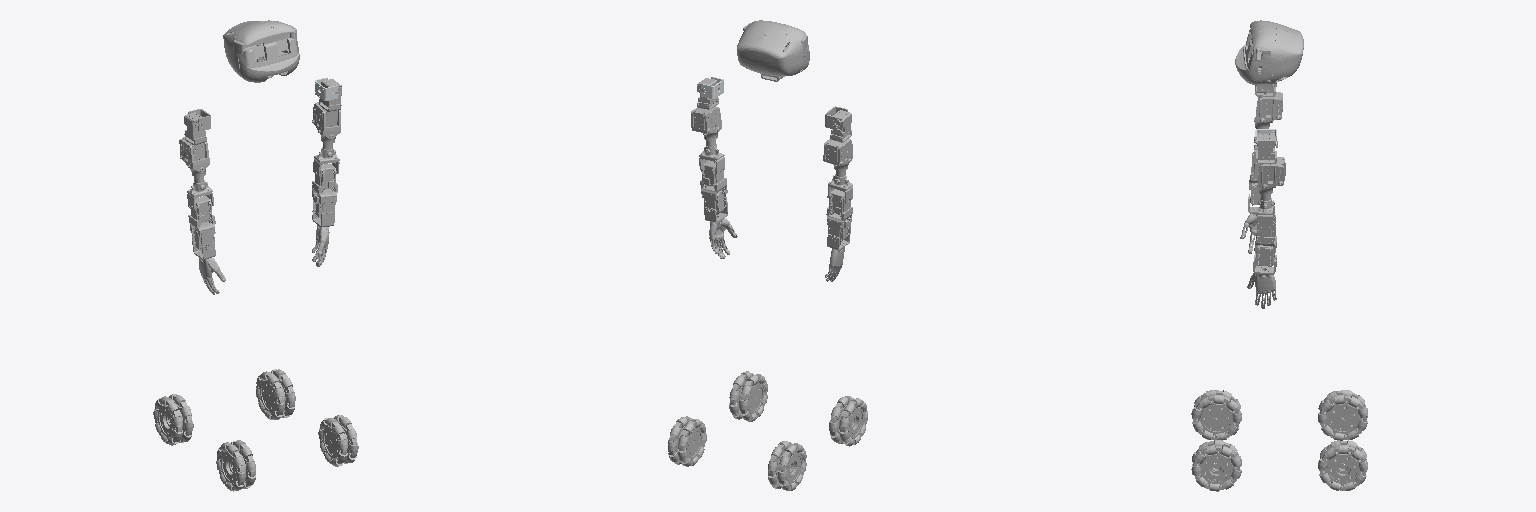
--- Render facts (derived) ---
The picture shows the robot from 3 angles, left to right: view 1: azimuth 30°, elevation 25°; view 2: azimuth 150°, elevation 25°; view 3: azimuth 270°, elevation 25°; orthographic projection.
Model ajit_2 with 17 links and 16 joints (16 continuous), rooted at torso_with_base, posed all joints at 0.
Links seen in each view (by area): view 1: head, front_left_wheel, rear_right_wheel, front_right_wheel, rear_left_wheel, right_upper_arm, left_upper_arm, left_lower_arm, right_lower_arm, right_hand, left_hand; view 2: head, rear_left_wheel, rear_right_wheel, front_right_wheel, front_left_wheel, left_upper_arm, right_upper_arm, left_lower_arm, right_lower_arm, left_hand, right_hand; view 3: head, front_right_wheel, front_left_wheel, rear_right_wheel, rear_left_wheel, left_upper_arm, left_hand, right_upper_arm, left_lower_arm, left_shoulder.
Boxes of the visible links, x1,y1,x2,y2 form: head: [223, 20, 299, 82]; front_left_wheel: [216, 440, 255, 491]; rear_right_wheel: [256, 369, 295, 419]; front_right_wheel: [318, 415, 358, 466]; rear_left_wheel: [153, 394, 193, 445]; right_upper_arm: [179, 137, 213, 210]; left_upper_arm: [312, 102, 340, 176]; left_lower_arm: [312, 163, 337, 218]; right_lower_arm: [188, 196, 215, 251]; right_hand: [193, 243, 225, 294]; left_hand: [312, 212, 334, 266]; head: [737, 20, 809, 76]; rear_left_wheel: [768, 441, 806, 490]; rear_right_wheel: [668, 416, 706, 466]; front_right_wheel: [729, 371, 767, 421]; front_left_wheel: [829, 396, 867, 446]; left_upper_arm: [691, 107, 724, 173]; right_upper_arm: [823, 139, 852, 203]; left_lower_arm: [700, 160, 727, 214]; right_lower_arm: [826, 189, 852, 242]; left_hand: [704, 202, 737, 258]; right_hand: [825, 232, 850, 281]; head: [1235, 20, 1303, 84]; front_right_wheel: [1191, 440, 1241, 491]; front_left_wheel: [1191, 390, 1241, 439]; rear_right_wheel: [1318, 440, 1367, 490]; rear_left_wheel: [1318, 390, 1367, 440]; left_upper_arm: [1257, 157, 1285, 228]; left_hand: [1247, 253, 1276, 308]; right_upper_arm: [1254, 92, 1282, 164]; left_lower_arm: [1254, 214, 1276, 266]; left_shoulder: [1254, 133, 1276, 163].
Size in the robot's own frame: 0.3527 by 0.3499 by 0.9522 metres.
16 mesh visuals loaded from 17 distinct referenced files (16 binary STL); not drawn: 1 (reference not matched to a file when rendering).

The robot description file, URDF, robot "ajit_2":
<?xml version="1.0" encoding="utf-8"?>
<!-- This URDF was automatically created by SolidWorks to URDF Exporter! Originally created by Stephen Brawner ([email redacted])
     Commit Version: 1.5.1-0-g916b5db  Build Version: 1.5.7152.31018
     For more information, please see http://wiki.ros.org/sw_urdf_exporter -->
<robot
  name="ajit_2">
  <link
    name="torso_with_base">
    <inertial>
      <origin
        xyz="0.00108284784166282 0.00354020612854853 0.161961597641992"
        rpy="0 0 0" />
      <mass
        value="6.09034487721949" />
      <inertia
        ixx="0.0311117225047476"
        ixy="1.34114408391613E-06"
        ixz="4.50213706282103E-08"
        iyy="0.0233704735774127"
        iyz="6.12804905599851E-06"
        izz="0.045740183988236" />
    </inertial>
    <visual>
      <origin
        xyz="0 0 0"
        rpy="0 0 0" />
      <geometry>
        <mesh
          filename="package://ajit_2/meshes/torso_with_base.STL" />
      </geometry>
      <material
        name="">
        <color
          rgba="0.752941176470588 0.752941176470588 0.752941176470588 1" />
      </material>
    </visual>
    <collision>
      <origin
        xyz="0 0 0"
        rpy="0 0 0" />
      <geometry>
        <mesh
          filename="package://ajit_2/meshes/torso_with_base.STL" />
      </geometry>
    </collision>
  </link>
  <link
    name="rear_right_wheel">
    <inertial>
      <origin
        xyz="0.001143679825796 -0.000172693112231372 -0.020243699800859"
        rpy="0 0 0" />
      <mass
        value="0.207966248762552" />
      <inertia
        ixx="4.9547221955099E-05"
        ixy="6.15265107138912E-10"
        ixz="-1.53778223115391E-20"
        iyy="4.95574096353451E-05"
        iyz="8.37649774801772E-20"
        izz="9.25765008771463E-05" />
    </inertial>
    <visual>
      <origin
        xyz="0 0 0"
        rpy="0 0 0" />
      <geometry>
        <mesh
          filename="package://ajit_2/meshes/rear_right_wheel.STL" />
      </geometry>
      <material
        name="">
        <color
          rgba="0.752941176470588 0.752941176470588 0.752941176470588 1" />
      </material>
    </visual>
    <collision>
      <origin
        xyz="0 0 0"
        rpy="0 0 0" />
      <geometry>
        <mesh
          filename="package://ajit_2/meshes/rear_right_wheel.STL" />
      </geometry>
    </collision>
  </link>
  <joint
    name="rear_right_wheel"
    type="continuous">
    <origin
      xyz="0.096 0.125 0.053"
      rpy="1.5708 0.86888 -1.5708" />
    <parent
      link="torso_with_base" />
    <child
      link="rear_right_wheel" />
    <axis
      xyz="0 0 1" />
  </joint>
  <link
    name="front_right_wheel">
    <inertial>
      <origin
        xyz="0.0011436798258164 -0.000172693112257108 -0.0202436998007355"
        rpy="0 0 0" />
      <mass
        value="0.207966248762552" />
      <inertia
        ixx="4.95472219550989E-05"
        ixy="6.15265107127054E-10"
        ixz="-1.99369922450585E-20"
        iyy="4.9557409635345E-05"
        iyz="5.26736987563944E-20"
        izz="9.25765008771462E-05" />
    </inertial>
    <visual>
      <origin
        xyz="0 0 0"
        rpy="0 0 0" />
      <geometry>
        <mesh
          filename="package://ajit_2/meshes/front_right_wheel.STL" />
      </geometry>
      <material
        name="">
        <color
          rgba="0.752941176470588 0.752941176470588 0.752941176470588 1" />
      </material>
    </visual>
    <collision>
      <origin
        xyz="0 0 0"
        rpy="0 0 0" />
      <geometry>
        <mesh
          filename="package://ajit_2/meshes/front_right_wheel.STL" />
      </geometry>
    </collision>
  </link>
  <joint
    name="front_right_wheel"
    type="continuous">
    <origin
      xyz="0.096 -0.125 0.053"
      rpy="1.5708 -0.94871 -1.5708" />
    <parent
      link="torso_with_base" />
    <child
      link="front_right_wheel" />
    <axis
      xyz="0 0 1" />
  </joint>
  <link
    name="front_left_wheel">
    <inertial>
      <origin
        xyz="0.00114367982587759 -0.000172693112185762 -0.020243699800731"
        rpy="0 0 0" />
      <mass
        value="0.207966248762552" />
      <inertia
        ixx="4.9547221955099E-05"
        ixy="6.15265107143571E-10"
        ixz="-3.85100515835727E-20"
        iyy="4.95574096353451E-05"
        iyz="3.15860975115351E-20"
        izz="9.25765008771463E-05" />
    </inertial>
    <visual>
      <origin
        xyz="0 0 0"
        rpy="0 0 0" />
      <geometry>
        <mesh
          filename="package://ajit_2/meshes/front_left_wheel.STL" />
      </geometry>
      <material
        name="">
        <color
          rgba="0.752941176470588 0.752941176470588 0.752941176470588 1" />
      </material>
    </visual>
    <collision>
      <origin
        xyz="0 0 0"
        rpy="0 0 0" />
      <geometry>
        <mesh
          filename="package://ajit_2/meshes/front_left_wheel.STL" />
      </geometry>
    </collision>
  </link>
  <joint
    name="front_left_wheel"
    type="continuous">
    <origin
      xyz="-0.096 -0.125 0.053"
      rpy="1.5708 -1.4317 1.5708" />
    <parent
      link="torso_with_base" />
    <child
      link="front_left_wheel" />
    <axis
      xyz="0 0 1" />
  </joint>
  <link
    name="rear_left_wheel">
    <inertial>
      <origin
        xyz="0.00114367982587757 -0.000172693112185839 -0.0202436998007312"
        rpy="0 0 0" />
      <mass
        value="0.207966248762552" />
      <inertia
        ixx="4.9547221955099E-05"
        ixy="6.15265107152465E-10"
        ixz="-1.70255915406408E-20"
        iyy="4.95574096353451E-05"
        iyz="8.3639945478462E-20"
        izz="9.25765008771463E-05" />
    </inertial>
    <visual>
      <origin
        xyz="0 0 0"
        rpy="0 0 0" />
      <geometry>
        <mesh
          filename="package://ajit_2/meshes/rear_left_wheel.STL" />
      </geometry>
      <material
        name="">
        <color
          rgba="0.752941176470588 0.752941176470588 0.752941176470588 1" />
      </material>
    </visual>
    <collision>
      <origin
        xyz="0 0 0"
        rpy="0 0 0" />
      <geometry>
        <mesh
          filename="package://ajit_2/meshes/rear_left_wheel.STL" />
      </geometry>
    </collision>
  </link>
  <joint
    name="rear_left_wheel"
    type="continuous">
    <origin
      xyz="-0.096 0.125 0.053"
      rpy="-1.5708 0.65905 -1.5708" />
    <parent
      link="torso_with_base" />
    <child
      link="rear_left_wheel" />
    <axis
      xyz="0 0 1" />
  </joint>
  <link
    name="neck">
    <inertial>
      <origin
        xyz="-0.000474529164049275 0.0253734807135814 -5.83476752827952E-05"
        rpy="0 0 0" />
      <mass
        value="0.0554686870532122" />
      <inertia
        ixx="1.14400758927377E-05"
        ixy="2.03624999523414E-08"
        ixz="-4.98085641671817E-08"
        iyy="1.01925600115723E-05"
        iyz="9.13023300857169E-09"
        izz="1.45873483934887E-05" />
    </inertial>
    <visual>
      <origin
        xyz="0 0 0"
        rpy="0 0 0" />
      <geometry>
        <mesh
          filename="package://ajit_2/meshes/neck.STL" />
      </geometry>
      <material
        name="">
        <color
          rgba="0.752941176470588 0.752941176470588 0.752941176470588 1" />
      </material>
    </visual>
    <collision>
      <origin
        xyz="0 0 0"
        rpy="0 0 0" />
      <geometry>
        <mesh
          filename="package://ajit_2/meshes/neck.STL" />
      </geometry>
    </collision>
  </link>
  <joint
    name="neck"
    type="continuous">
    <origin
      xyz="0.00050777 -0.020966 0.83778"
      rpy="1.5708 0.00019861 0.07342" />
    <parent
      link="torso_with_base" />
    <child
      link="neck" />
    <axis
      xyz="5.223E-05 -1 0.0020047" />
  </joint>
  <link
    name="head">
    <inertial>
      <origin
        xyz="0.000531720839375085 0.0676698231429836 0.0022355182505913"
        rpy="0 0 0" />
      <mass
        value="0.279948972455118" />
      <inertia
        ixx="0.000268465899949766"
        ixy="-2.50978769356943E-06"
        ixz="-8.51304073909741E-07"
        iyy="0.000569785608013155"
        iyz="8.09060094401545E-05"
        izz="0.000611480471899482" />
    </inertial>
    <visual>
      <origin
        xyz="0 0 0"
        rpy="0 0 0" />
      <geometry>
        <mesh
          filename="package://ajit_2/meshes/head.STL" />
      </geometry>
      <material
        name="">
        <color
          rgba="0.752941176470588 0.752941176470588 0.752941176470588 1" />
      </material>
    </visual>
    <collision>
      <origin
        xyz="0 0 0"
        rpy="0 0 0" />
      <geometry>
        <mesh
          filename="package://ajit_2/meshes/head.STL" />
      </geometry>
    </collision>
  </link>
  <joint
    name="head"
    type="continuous">
    <origin
      xyz="0 0 0"
      rpy="0.073603 -3.6641E-05 0.0011629" />
    <parent
      link="neck" />
    <child
      link="head" />
    <axis
      xyz="0.99988 8.3755E-05 0.015807" />
  </joint>
  <link
    name="left_shoulder_joint">
    <inertial>
      <origin
        xyz="5.89805981832114E-17 -0.00980756234729827 0"
        rpy="0 0 0" />
      <mass
        value="0.0197456142642722" />
      <inertia
        ixx="3.01374083482572E-06"
        ixy="7.54758364984596E-21"
        ixz="3.67268191973544E-21"
        iyy="7.41578906605364E-06"
        iyz="-2.17718137750505E-21"
        izz="7.68967212426087E-06" />
    </inertial>
    <visual>
      <origin
        xyz="0 0 0"
        rpy="0 0 0" />
      <geometry>
        <mesh
          filename="package://ajit_2/meshes/left_shoulder_joint.STL" />
      </geometry>
      <material
        name="">
        <color
          rgba="0.898039215686275 0.917647058823529 0.929411764705882 1" />
      </material>
    </visual>
    <collision>
      <origin
        xyz="0 0 0"
        rpy="0 0 0" />
      <geometry>
        <mesh
          filename="package://ajit_2/meshes/left_shoulder_joint.STL" />
      </geometry>
    </collision>
  </link>
  <joint
    name="left_shoulder_joint"
    type="continuous">
    <origin
      xyz="0.13001 -0.027088 0.77878"
      rpy="0 -0.020253 1.5709" />
    <parent
      link="torso_with_base" />
    <child
      link="left_shoulder_joint" />
    <axis
      xyz="0 1 0" />
  </joint>
  <link
    name="left_shoulder">
    <inertial>
      <origin
        xyz="-0.0290397888125244 -0.0139965238802988 0.000273200540650258"
        rpy="0 0 0" />
      <mass
        value="0.0545537265363548" />
      <inertia
        ixx="1.4435292987549E-05"
        ixy="-3.06680072978822E-07"
        ixz="-8.13515537359147E-08"
        iyy="1.0267269626089E-05"
        iyz="3.41404620185189E-08"
        izz="1.12411417057138E-05" />
    </inertial>
    <visual>
      <origin
        xyz="0 0 0"
        rpy="0 0 0" />
      <geometry>
        <mesh
          filename="package://ajit_2/meshes/left_shoulder.STL" />
      </geometry>
      <material
        name="">
        <color
          rgba="0.752941176470588 0.752941176470588 0.752941176470588 1" />
      </material>
    </visual>
    <collision>
      <origin
        xyz="0 0 0"
        rpy="0 0 0" />
      <geometry>
        <mesh
          filename="package://ajit_2/meshes/left_shoulder.STL" />
      </geometry>
    </collision>
  </link>
  <joint
    name="left_shoulder"
    type="continuous">
    <origin
      xyz="0 0 0"
      rpy="1.5745 -0.14099 1.5445" />
    <parent
      link="left_shoulder_joint" />
    <child
      link="left_shoulder" />
    <axis
      xyz="0.026043 0 0.99966" />
  </joint>
  <link
    name="left_upper_arm">
    <inertial>
      <origin
        xyz="0.030145339604696 -0.0911283429827465 -0.0128896304663745"
        rpy="0 0 0" />
      <mass
        value="0.122044806180425" />
      <inertia
        ixx="3.91919011398007E-05"
        ixy="4.55626129193026E-07"
        ixz="-3.10811320045194E-07"
        iyy="3.89143477397343E-05"
        iyz="2.81736715157909E-06"
        izz="3.80521417753794E-05" />
    </inertial>
    <visual>
      <origin
        xyz="0 0 0"
        rpy="0 0 0" />
      <geometry>
        <mesh
          filename="package://ajit_2/meshes/left_upper_arm.STL" />
      </geometry>
      <material
        name="">
        <color
          rgba="0.752941176470588 0.752941176470588 0.752941176470588 1" />
      </material>
    </visual>
    <collision>
      <origin
        xyz="0 0 0"
        rpy="0 0 0" />
      <geometry>
        <mesh
          filename="package://ajit_2/meshes/left_upper_arm.STL" />
      </geometry>
    </collision>
  </link>
  <joint
    name="left_upper_arm"
    type="continuous">
    <origin
      xyz="0 0 0"
      rpy="-3.131 0.22013 3.1134" />
    <parent
      link="left_shoulder" />
    <child
      link="left_upper_arm" />
    <axis
      xyz="0.043429 -0.99906 -0.0011314" />
  </joint>
  <link
    name="left_lower_arm">
    <inertial>
      <origin
        xyz="-0.0258406908657342 -0.04223907403708 -0.00234479998268169"
        rpy="0 0 0" />
      <mass
        value="0.103756189377196" />
      <inertia
        ixx="2.67457783544487E-05"
        ixy="5.60044040637988E-08"
        ixz="9.07354442813112E-09"
        iyy="2.1294635376876E-05"
        iyz="-2.69255599199436E-08"
        izz="2.67276388960925E-05" />
    </inertial>
    <visual>
      <origin
        xyz="0 0 0"
        rpy="0 0 0" />
      <geometry>
        <mesh
          filename="package://ajit_2/meshes/left_lower_arm.STL" />
      </geometry>
      <material
        name="">
        <color
          rgba="0.752941176470588 0.752941176470588 0.752941176470588 1" />
      </material>
    </visual>
    <collision>
      <origin
        xyz="0 0 0"
        rpy="0 0 0" />
      <geometry>
        <mesh
          filename="package://ajit_2/meshes/left_lower_arm.STL" />
      </geometry>
    </collision>
  </link>
  <joint
    name="left_lower_arm"
    type="continuous">
    <origin
      xyz="0.0078671 -0.17993 8.7293E-05"
      rpy="-3.0684 -0.28741 -3.0642" />
    <parent
      link="left_upper_arm" />
    <child
      link="left_lower_arm" />
    <axis
      xyz="0.9907 0.04292 0.12912" />
  </joint>
  <link
    name="left_hand">
    <inertial>
      <origin
        xyz="0.00577388838029674 -0.0430508603552061 0.000749746012168997"
        rpy="0 0 0" />
      <mass
        value="0.0468313871755756" />
      <inertia
        ixx="2.40657096887482E-05"
        ixy="1.59437420920692E-06"
        ixz="2.14678470719642E-06"
        iyy="1.44249123853662E-05"
        iyz="1.14626895456253E-06"
        izz="1.63260616228612E-05" />
    </inertial>
    <visual>
      <origin
        xyz="0 0 0"
        rpy="0 0 0" />
      <geometry>
        <mesh
          filename="package://ajit_2/meshes/left_hand.STL" />
      </geometry>
      <material
        name="">
        <color
          rgba="0.752941176470588 0.752941176470588 0.752941176470588 1" />
      </material>
    </visual>
    <collision>
      <origin
        xyz="0 0 0"
        rpy="0 0 0" />
      <geometry>
        <mesh
          filename="package://ajit_2/meshes/left_hand.STL" />
      </geometry>
    </collision>
  </link>
  <joint
    name="left_hand"
    type="continuous">
    <origin
      xyz="-0.024156 -0.083279 -0.0008768"
      rpy="0.025587 -0.00094256 -0.067983" />
    <parent
      link="left_lower_arm" />
    <child
      link="left_hand" />
    <axis
      xyz="0.13098 -0.043811 -0.99042" />
  </joint>
  <link
    name="right_shoulder_joint">
    <inertial>
      <origin
        xyz="-0.0109553595775277 -1.11022302462516E-16 0.000285404652196813"
        rpy="0 0 0" />
      <mass
        value="0.0197456142642723" />
      <inertia
        ixx="7.41280348428632E-06"
        ixy="-1.42688655665397E-23"
        ixz="-1.14602623179672E-07"
        iyy="7.68967212426088E-06"
        iyz="7.6232965252887E-21"
        izz="3.01672641659308E-06" />
    </inertial>
    <visual>
      <origin
        xyz="0 0 0"
        rpy="0 0 0" />
      <geometry>
        <mesh
          filename="package://ajit_2/meshes/right_shoulder_joint.STL" />
      </geometry>
      <material
        name="">
        <color
          rgba="0.752941176470588 0.752941176470588 0.752941176470588 1" />
      </material>
    </visual>
    <collision>
      <origin
        xyz="0 0 0"
        rpy="0 0 0" />
      <geometry>
        <mesh
          filename="package://ajit_2/meshes/right_shoulder_joint.STL" />
      </geometry>
    </collision>
  </link>
  <joint
    name="right_shoulder_joint"
    type="continuous">
    <origin
      xyz="-0.12785 -0.027088 0.77878"
      rpy="1.5286 -0.0010986 -0.026154" />
    <parent
      link="torso_with_base" />
    <child
      link="right_shoulder_joint" />
    <axis
      xyz="0.99966 0 -0.026043" />
  </joint>
  <link
    name="right_shoulder">
    <inertial>
      <origin
        xyz="-0.0221624918571401 -0.0174265924107773 9.40364114096898E-05"
        rpy="0 0 0" />
      <mass
        value="0.0545537294198839" />
      <inertia
        ixx="1.44352933311808E-05"
        ixy="-3.06680132947808E-07"
        ixz="-8.13515631816331E-08"
        iyy="1.02672697436159E-05"
        iyz="3.41403487540323E-08"
        izz="1.12411420499378E-05" />
    </inertial>
    <visual>
      <origin
        xyz="0 0 0"
        rpy="0 0 0" />
      <geometry>
        <mesh
          filename="package://ajit_2/meshes/right_shoulder.STL" />
      </geometry>
      <material
        name="">
        <color
          rgba="0.752941176470588 0.752941176470588 0.752941176470588 1" />
      </material>
    </visual>
    <collision>
      <origin
        xyz="0 0 0"
        rpy="0 0 0" />
      <geometry>
        <mesh
          filename="package://ajit_2/meshes/right_shoulder.STL" />
      </geometry>
    </collision>
  </link>
  <joint
    name="right_shoulder"
    type="continuous">
    <origin
      xyz="-0.049983 0 0.0013021"
      rpy="-3.141 0 3.1173" />
    <parent
      link="right_shoulder_joint" />
    <child
      link="right_shoulder" />
    <axis
      xyz="0.026043 0 0.99966" />
  </joint>
  <link
    name="right_upper_arm">
    <inertial>
      <origin
        xyz="0.0236377470370784 -0.09433498259828 -0.00999909368294818"
        rpy="0 0 0" />
      <mass
        value="0.122044804954538" />
      <inertia
        ixx="3.91919029135849E-05"
        ixy="4.55617665954089E-07"
        ixz="-3.10807130327579E-07"
        iyy="3.89143465096803E-05"
        iyz="2.81736833810396E-06"
        izz="3.80521422584862E-05" />
    </inertial>
    <visual>
      <origin
        xyz="0 0 0"
        rpy="0 0 0" />
      <geometry>
        <mesh
          filename="package://ajit_2/meshes/right_upper_arm.STL" />
      </geometry>
      <material
        name="">
        <color
          rgba="0.752941176470588 0.752941176470588 0.752941176470588 1" />
      </material>
    </visual>
    <collision>
      <origin
        xyz="0 0 0"
        rpy="0 0 0" />
      <geometry>
        <mesh
          filename="package://ajit_2/meshes/right_upper_arm.STL" />
      </geometry>
    </collision>
  </link>
  <joint
    name="right_upper_arm"
    type="continuous">
    <origin
      xyz="0 0 0"
      rpy="-3.1336 0.16315 3.1128" />
    <parent
      link="right_shoulder" />
    <child
      link="right_upper_arm" />
    <axis
      xyz="0.043429 -0.99906 -0.0011314" />
  </joint>
  <link
    name="right_lower_arm">
    <inertial>
      <origin
        xyz="0.0223372746251115 -0.0401518804069877 0.00393416857049689"
        rpy="0 0 0" />
      <mass
        value="0.103756180077498" />
      <inertia
        ixx="2.67457767952851E-05"
        ixy="5.60047204760134E-08"
        ixz="9.07265128712855E-09"
        iyy="2.12946327837809E-05"
        iyz="-2.69253292183373E-08"
        izz="2.67276360980012E-05" />
    </inertial>
    <visual>
      <origin
        xyz="0 0 0"
        rpy="0 0 0" />
      <geometry>
        <mesh
          filename="package://ajit_2/meshes/right_lower_arm.STL" />
      </geometry>
      <material
        name="">
        <color
          rgba="0.752941176470588 0.752941176470588 0.752941176470588 1" />
      </material>
    </visual>
    <collision>
      <origin
        xyz="0 0 0"
        rpy="0 0 0" />
      <geometry>
        <mesh
          filename="package://ajit_2/meshes/right_lower_arm.STL" />
      </geometry>
    </collision>
  </link>
  <joint
    name="right_lower_arm"
    type="continuous">
    <origin
      xyz="0.00827675416176607 -0.18283513188171 0.00189631264114903"
      rpy="0.0287987216754847 0.28584203017497 0.00394998678496914" />
    <parent
      link="right_upper_arm" />
    <child
      link="right_lower_arm" />
    <axis
      xyz="0.990700153693471 0.0429197675219366 0.129116610192475" />
  </joint>
  <link
    name="right_hand">
    <inertial>
      <origin
        xyz="0.00535474626718152 -0.0429108956773968 0.00391878753012394"
        rpy="0 0 0" />
      <mass
        value="0.0468321402456518" />
      <inertia
        ixx="2.46614235826484E-05"
        ixy="1.71965786038955E-06"
        ixz="-7.58448839611847E-08"
        iyy="1.42746877988596E-05"
        iyz="-5.63913627899617E-07"
        izz="1.5880866166307E-05" />
    </inertial>
    <visual>
      <origin
        xyz="0 0 0"
        rpy="0 0 0" />
      <geometry>
        <mesh
          filename="package://ajit_2/meshes/right_hand.STL" />
      </geometry>
      <material
        name="">
        <color
          rgba="0.752941176470588 0.752941176470588 0.752941176470588 1" />
      </material>
    </visual>
    <collision>
      <origin
        xyz="0 0 0"
        rpy="0 0 0" />
      <geometry>
        <mesh
          filename="package://ajit_2/meshes/right_hand.STL" />
      </geometry>
    </collision>
  </link>
  <joint
    name="right_hand"
    type="continuous">
    <origin
      xyz="0.0240218455641587 -0.0811916209918689 0.00540216659320664"
      rpy="0.0180865510053456 0.000324336074754358 -0.0113724172010815" />
    <parent
      link="right_lower_arm" />
    <child
      link="right_hand" />
    <axis
      xyz="0.130977699707526 -0.0438112514097571 -0.990416789250483" />
  </joint>
  <transmission name="rear_right_wheel">
    <type>transmission_interface/SimpleTransmission</type>
    <joint name="rear_right_wheel">
      <hardwareInterface>PositionJointInterface</hardwareInterface>
    </joint>
    <actuator name="motor_rrw">
      <hardwareInterface>PositionJointInterface</hardwareInterface>
      <mechanicalReduction>1</mechanicalReduction>
    </actuator>
  </transmission>

  <transmission name="front_right_wheel">
    <type>transmission_interface/SimpleTransmission</type>
    <joint name="front_right_wheel">
      <hardwareInterface>PositionJointInterface</hardwareInterface>
    </joint>
    <actuator name="motor_frw">
      <hardwareInterface>PositionJointInterface</hardwareInterface>
      <mechanicalReduction>1</mechanicalReduction>
    </actuator>
  </transmission>

  <transmission name="front_left_wheel">
    <type>transmission_interface/SimpleTransmission</type>
    <joint name="front_left_wheel">
      <hardwareInterface>PositionJointInterface</hardwareInterface>
    </joint>
    <actuator name="motor_flw">
      <hardwareInterface>PositionJointInterface</hardwareInterface>
      <mechanicalReduction>1</mechanicalReduction>
    </actuator>
  </transmission>

  <transmission name="rear_left_wheel">
    <type>transmission_interface/SimpleTransmission</type>
    <joint name="rear_left_wheel">
      <hardwareInterface>PositionJointInterface</hardwareInterface>
    </joint>
    <actuator name="motor_rlw">
      <hardwareInterface>PositionJointInterface</hardwareInterface>
      <mechanicalReduction>1</mechanicalReduction>
    </actuator>
  </transmission>

  <transmission name="right_shoulder_joint">
    <type>transmission_interface/SimpleTransmission</type>
    <joint name="right_shoulder_joint">
      <hardwareInterface>PositionJointInterface</hardwareInterface>
    </joint>
    <actuator name="dxml_rsj">
      <hardwareInterface>PositionJointInterface</hardwareInterface>
      <mechanicalReduction>1</mechanicalReduction>
    </actuator>
  </transmission>

  <transmission name="left_shoulder_joint">
    <type>transmission_interface/SimpleTransmission</type>
    <joint name="left_shoulder_joint">
      <hardwareInterface>PositionJointInterface</hardwareInterface>
    </joint>
    <actuator name="dxml_lsj">
      <hardwareInterface>PositionJointInterface</hardwareInterface>
      <mechanicalReduction>1</mechanicalReduction>
    </actuator>
  </transmission>

  <transmission name="right_shoulder">
    <type>transmission_interface/SimpleTransmission</type>
    <joint name="right_shoulder">
      <hardwareInterface>PositionJointInterface</hardwareInterface>
    </joint>
    <actuator name="dxml_rs">
      <hardwareInterface>PositionJointInterface</hardwareInterface>
      <mechanicalReduction>1</mechanicalReduction>
    </actuator>
  </transmission>

  <transmission name="left_shoulder">
    <type>transmission_interface/SimpleTransmission</type>
    <joint name="left_shoulder">
      <hardwareInterface>PositionJointInterface</hardwareInterface>
    </joint>
    <actuator name="dxml_ls">
      <hardwareInterface>PositionJointInterface</hardwareInterface>
      <mechanicalReduction>1</mechanicalReduction>
    </actuator>
  </transmission>

  <transmission name="right_upper_arm">
    <type>transmission_interface/SimpleTransmission</type>
    <joint name="right_upper_arm">
      <hardwareInterface>PositionJointInterface</hardwareInterface>
    </joint>
    <actuator name="dxml_rua">
      <hardwareInterface>PositionJointInterface</hardwareInterface>
      <mechanicalReduction>1</mechanicalReduction>
    </actuator>
  </transmission>

  <transmission name="left_upper_arm">
    <type>transmission_interface/SimpleTransmission</type>
    <joint name="left_upper_arm">
      <hardwareInterface>PositionJointInterface</hardwareInterface>
    </joint>
    <actuator name="dxml_lua">
      <hardwareInterface>PositionJointInterface</hardwareInterface>
      <mechanicalReduction>1</mechanicalReduction>
    </actuator>
  </transmission>

  <transmission name="left_lower_arm">
    <type>transmission_interface/SimpleTransmission</type>
    <joint name="left_lower_arm">
      <hardwareInterface>PositionJointInterface</hardwareInterface>
    </joint>
    <actuator name="dxml_lla">
      <hardwareInterface>PositionJointInterface</hardwareInterface>
      <mechanicalReduction>1</mechanicalReduction>
    </actuator>
  </transmission>

  <transmission name="right_lower_arm">
    <type>transmission_interface/SimpleTransmission</type>
    <joint name="right_lower_arm">
      <hardwareInterface>PositionJointInterface</hardwareInterface>
    </joint>
    <actuator name="dxml_rla">
      <hardwareInterface>PositionJointInterface</hardwareInterface>
      <mechanicalReduction>1</mechanicalReduction>
    </actuator>
  </transmission>

  <transmission name="right_hand">
    <type>transmission_interface/SimpleTransmission</type>
    <joint name="right_hand">
      <hardwareInterface>PositionJointInterface</hardwareInterface>
    </joint>
    <actuator name="dxml_rh">
      <hardwareInterface>PositionJointInterface</hardwareInterface>
      <mechanicalReduction>1</mechanicalReduction>
    </actuator>
  </transmission>

  <transmission name="left_hand">
    <type>transmission_interface/SimpleTransmission</type>
    <joint name="left_hand">
      <hardwareInterface>PositionJointInterface</hardwareInterface>
    </joint>
    <actuator name="dxml_lh">
      <hardwareInterface>PositionJointInterface</hardwareInterface>
      <mechanicalReduction>1</mechanicalReduction>
    </actuator>
  </transmission>

  <transmission name="head">
    <type>transmission_interface/SimpleTransmission</type>
    <joint name="head">
      <hardwareInterface>PositionJointInterface</hardwareInterface>
    </joint>
    <actuator name="dxml_head">
      <hardwareInterface>PositionJointInterface</hardwareInterface>
      <mechanicalReduction>1</mechanicalReduction>
    </actuator>
  </transmission>

  <transmission name="neck">
    <type>transmission_interface/SimpleTransmission</type>
    <joint name="neck">
      <hardwareInterface>PositionJointInterface</hardwareInterface>
    </joint>
    <actuator name="dxml_neck">
      <hardwareInterface>PositionJointInterface</hardwareInterface>
      <mechanicalReduction>1</mechanicalReduction>
    </actuator>
  </transmission>

  <gazebo>
     <plugin name="gazebo_ros_control" filename="libgazebo_ros_control.so">
       <robotNamespace>/ajit_2</robotNamespace>
       <legacyModeNS>true</legacyModeNS>
     </plugin>
  </gazebo>
</robot>
